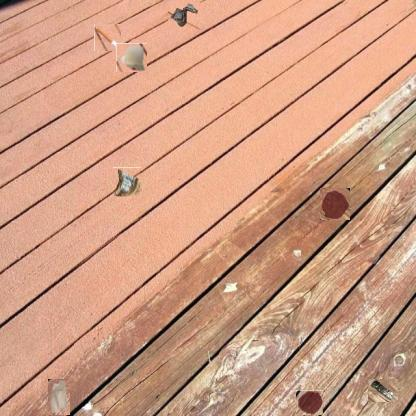dirty: (168, 2, 200, 30), (117, 43, 146, 72), (114, 167, 142, 196), (48, 379, 70, 415), (369, 377, 396, 404), (94, 24, 121, 51)
liquid: (320, 188, 350, 220), (296, 390, 324, 415)
